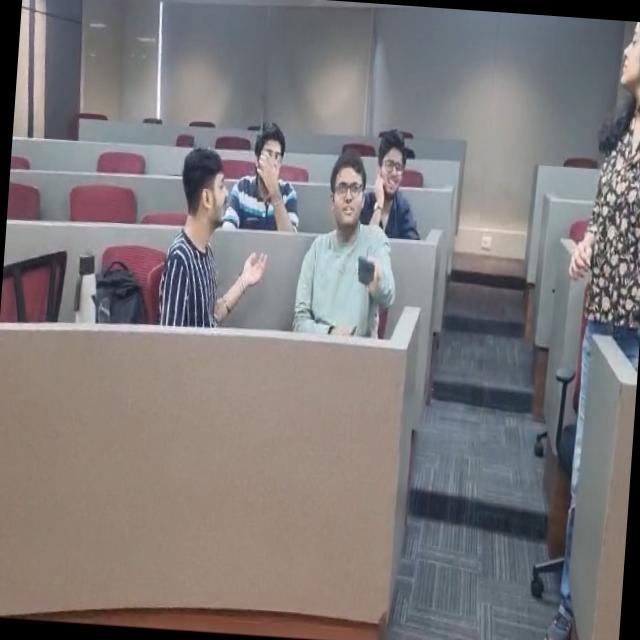cheating: (150, 147, 261, 329), (308, 157, 384, 296), (225, 112, 302, 226), (363, 116, 432, 215)
